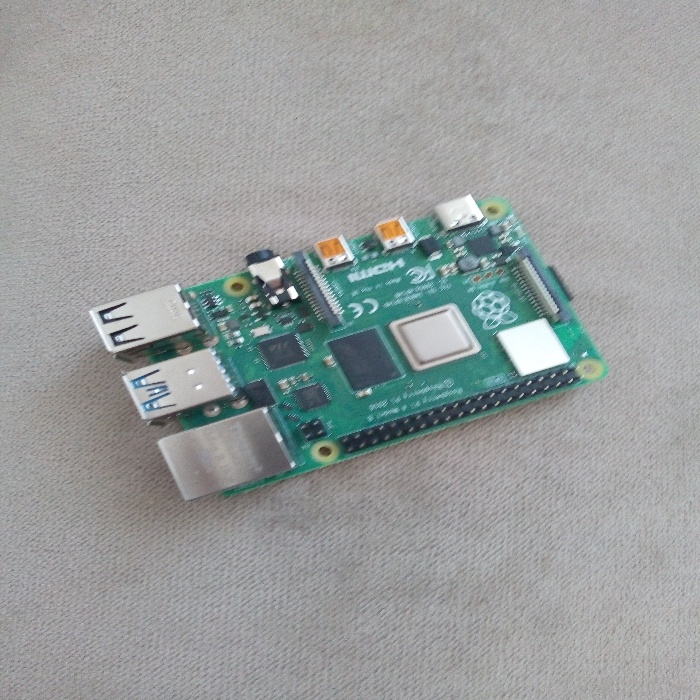raspberry: (55, 171, 627, 511)
